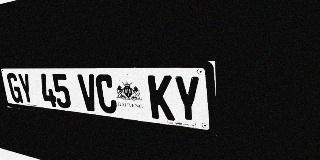4: (38, 73, 58, 107)
5: (52, 74, 72, 109)
C: (94, 74, 118, 114)
G: (6, 73, 23, 103)
K: (148, 75, 175, 121)
V: (77, 74, 99, 112)
Y: (173, 75, 202, 124), (17, 73, 35, 105)
